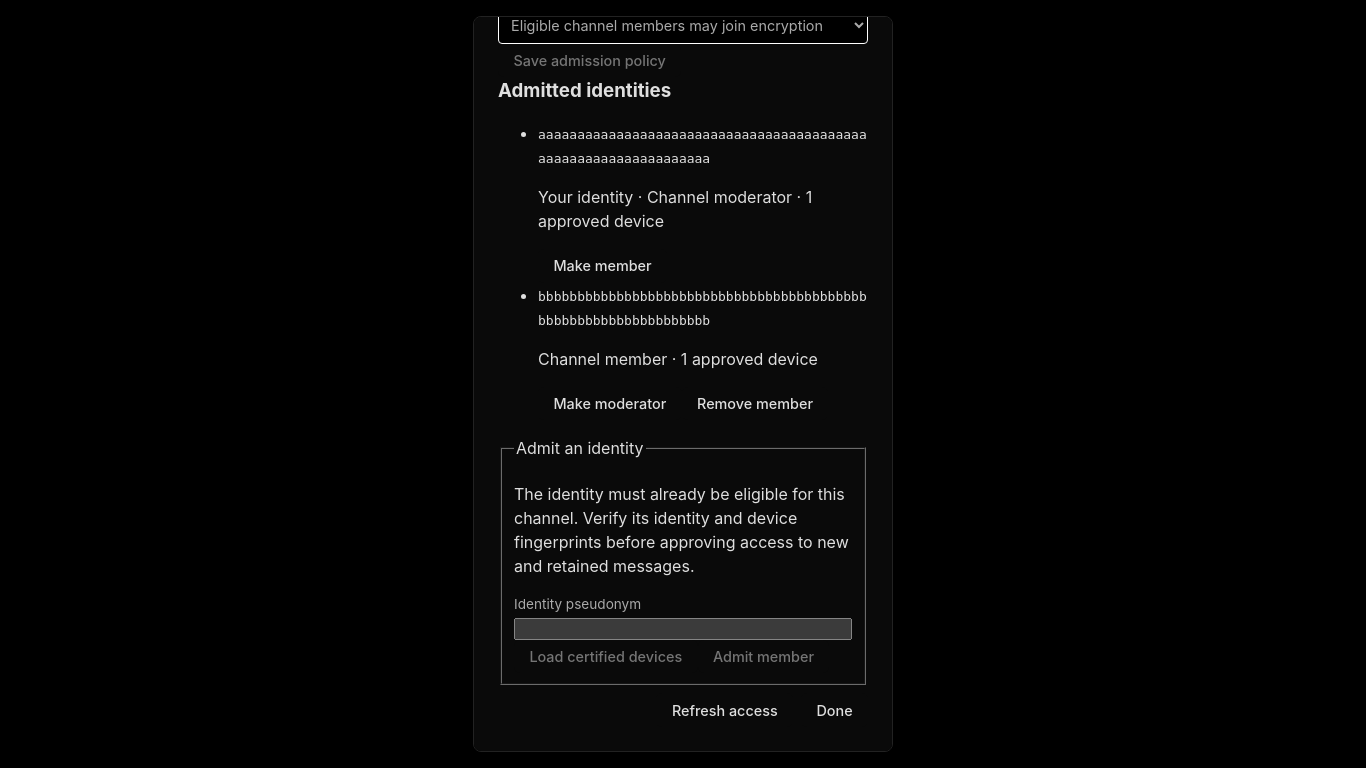
Scenario: verified encrypted channel access controls › keeps a signed permission rejection visible and permits retry without refreshing it away
The width and height of the screenshot is (1366, 768).
(page scrolled)
Click the button "Remove member" at (755, 403), box [682,387,828,420]
(page scrolled)
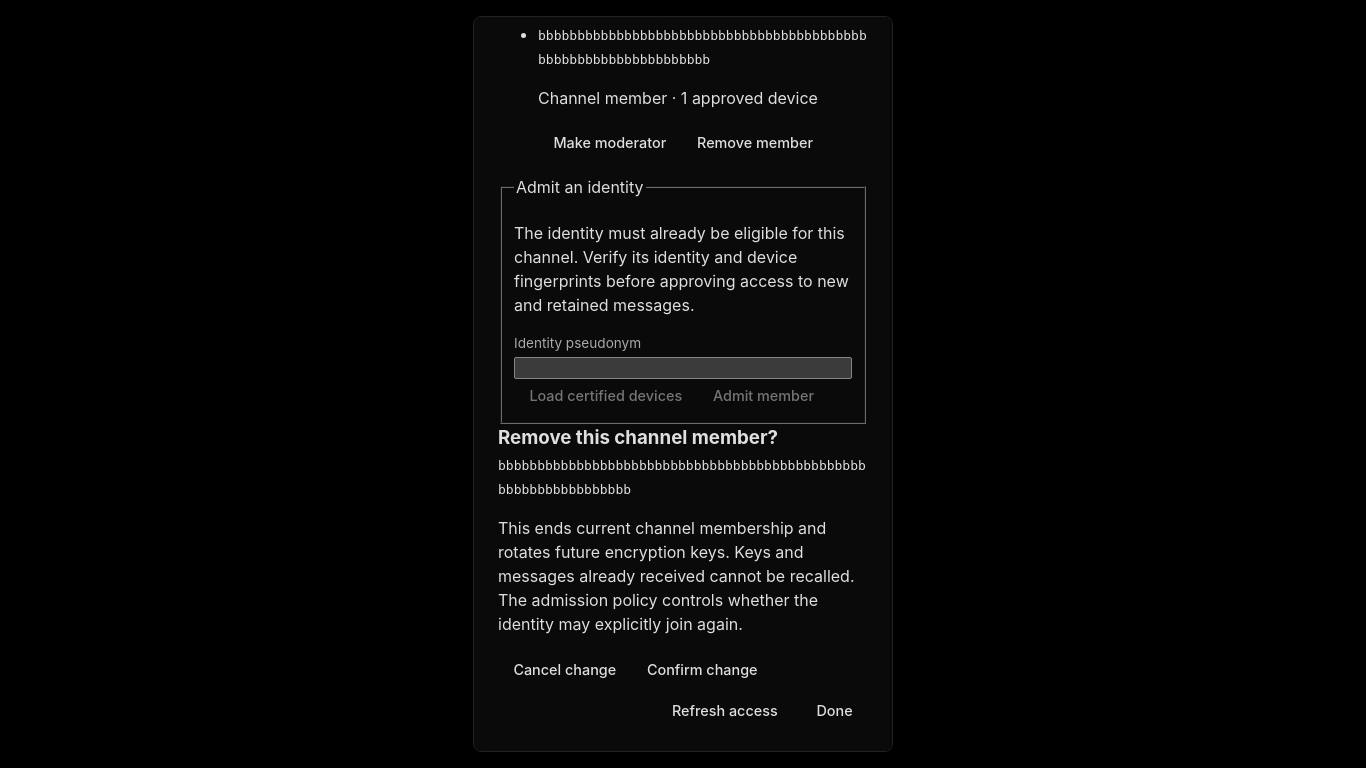
Click the button "Confirm change" at (702, 669), box [632,652,773,686]
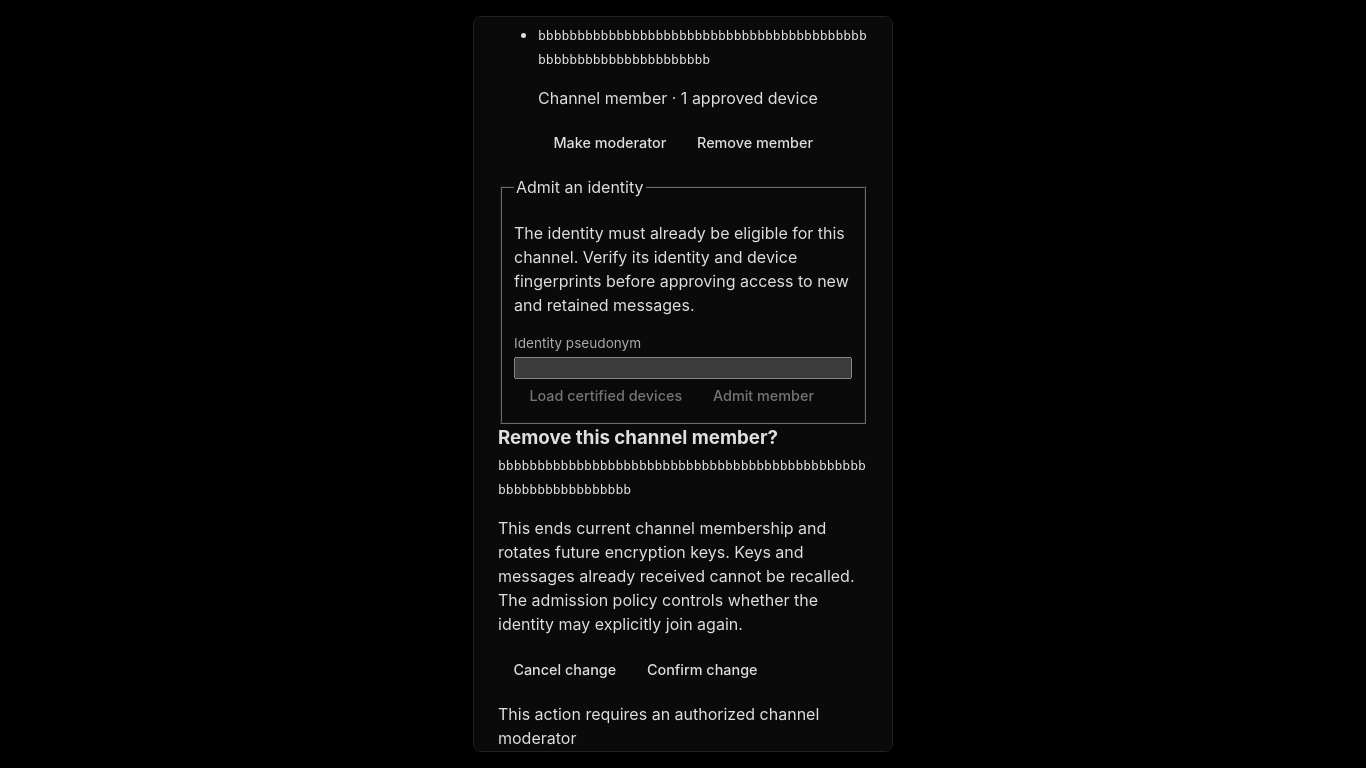
Result: the button "Confirm change" is enabled at [632,652,773,686]
Result: the message shows "authorized channel moderator" at [498,704,819,748]
